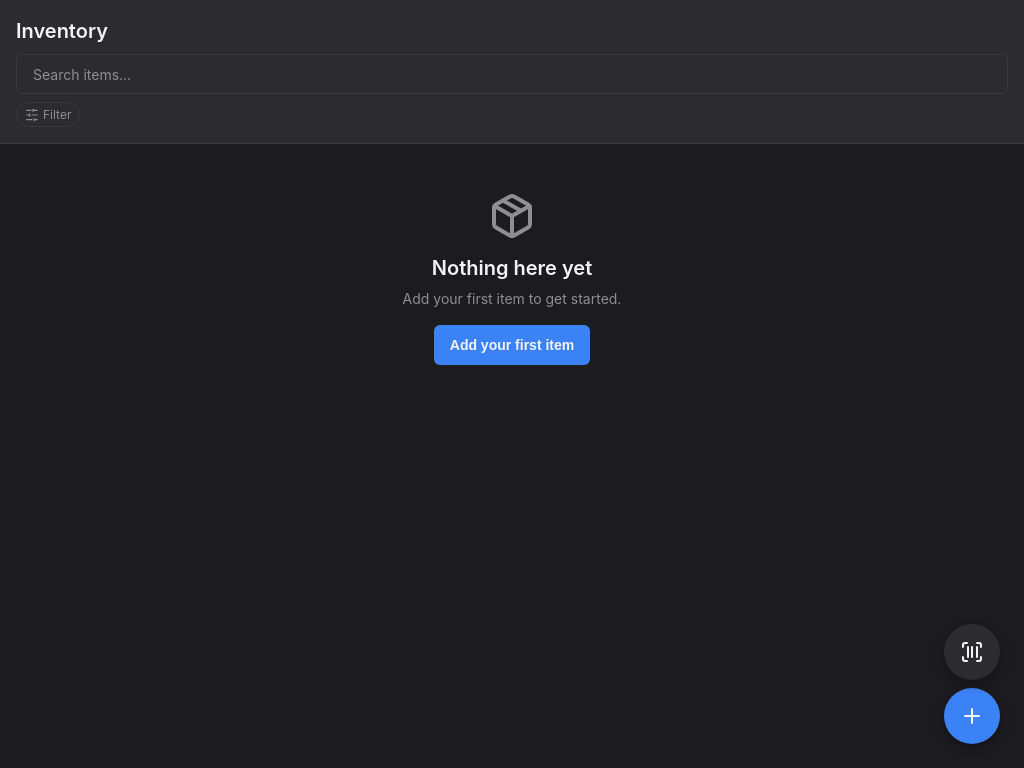
Test: Barcode scan flow (Phase 3 integration) › Test B: unknown barcode with OFF match opens ItemDrawer with pre-fill (ROADMAP criterion 3)
Click the button named "Scan barcode": [972, 652] box [944,624,1000,680]
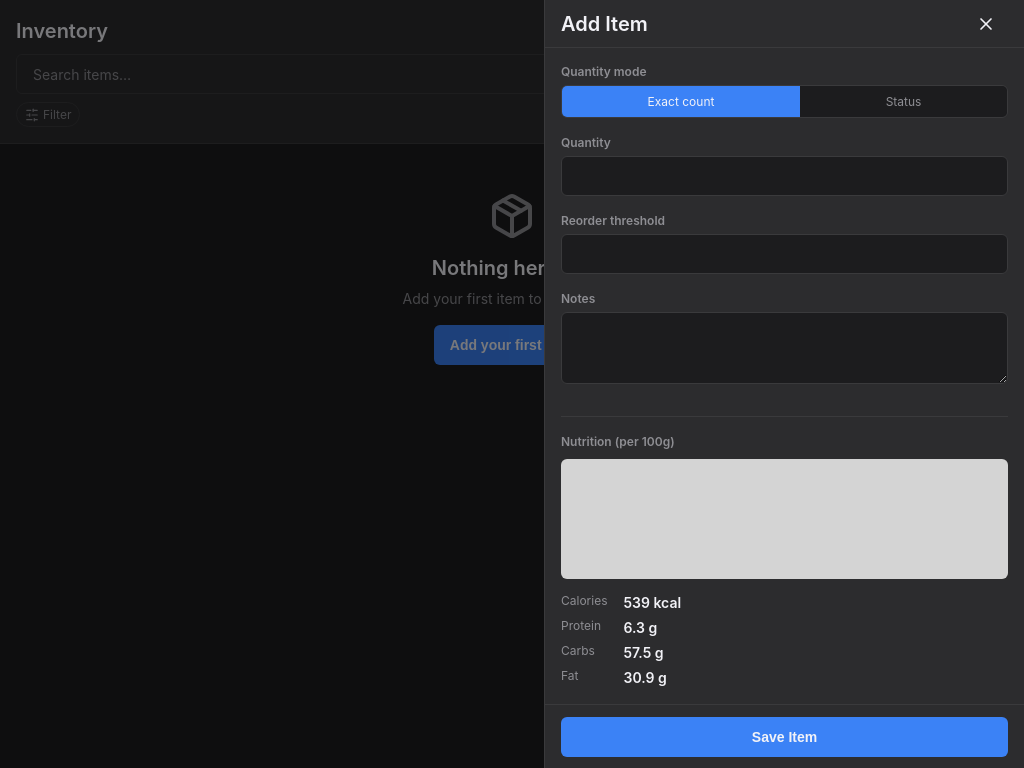
Expected: the heading "Add Item" is shown, [561,8,648,38]
Expected: the text "Nutrition (per 100g)" is shown, [561,434,675,449]
Expected: the text "539 kcal" is shown, [624,594,681,611]
